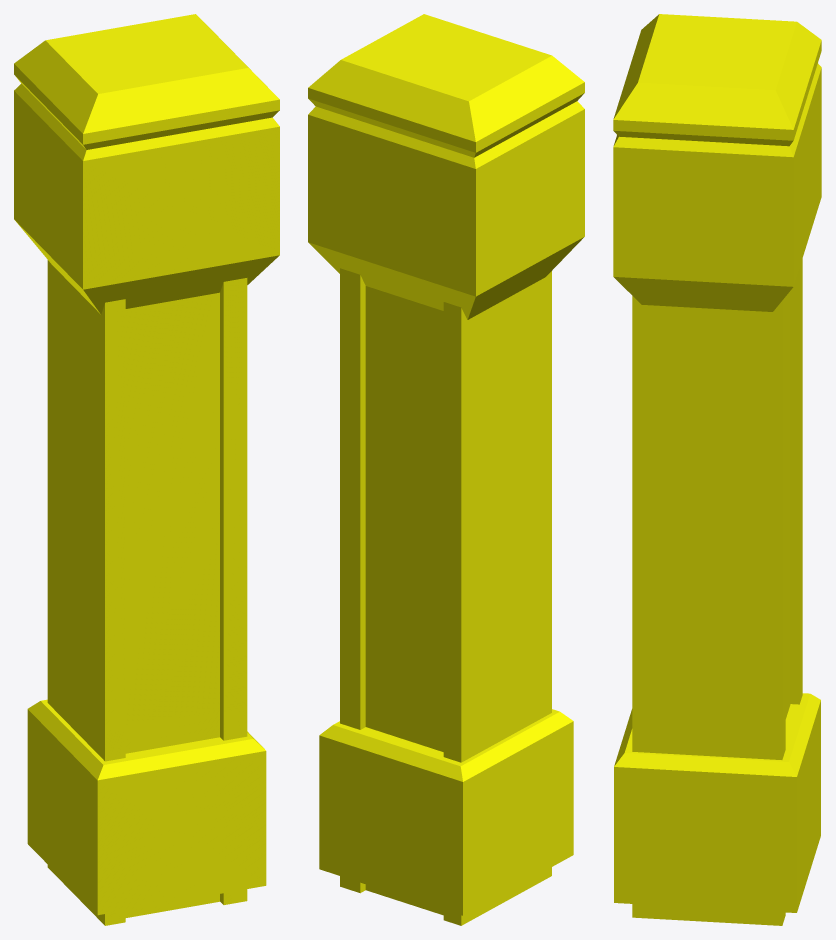
The model's file is 4st_pillar_001.glb.
3 views of the same model, side by side, from view 1: azimuth 30°, elevation 25°; view 2: azimuth 150°, elevation 25°; view 3: azimuth 270°, elevation 25° (orthographic).
Parts seen in each view (by area): view 1: 2st_pillar_001; view 2: 2st_pillar_001; view 3: 2st_pillar_001.
Part boxes in pixels (x1,y1,x2,y2): 2st_pillar_001: [14, 14, 279, 925]; 2st_pillar_001: [308, 14, 584, 925]; 2st_pillar_001: [613, 14, 821, 925].
Size of the model in its own units: 4.66 by 18.18 by 4.1.
1 material, 1 textured.
